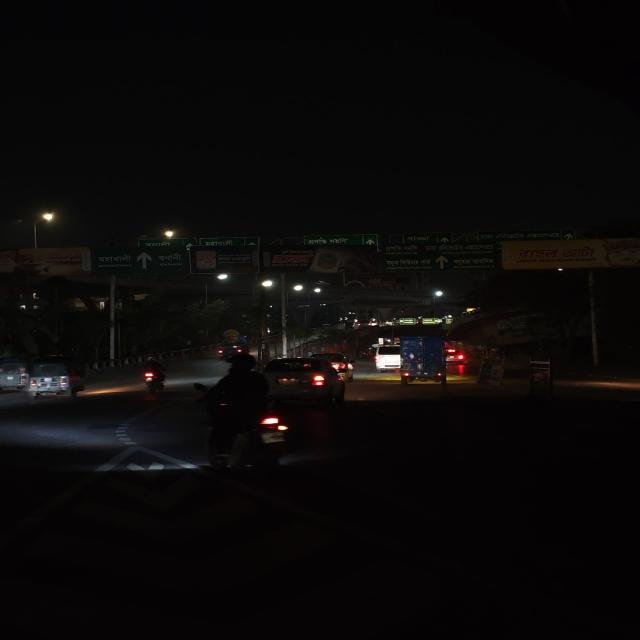car: (262, 356, 350, 407), (369, 343, 404, 371)
cng: (26, 353, 92, 405), (0, 353, 31, 395)
motorcycle: (192, 354, 298, 482), (135, 355, 173, 399)
truck: (400, 334, 449, 386)
